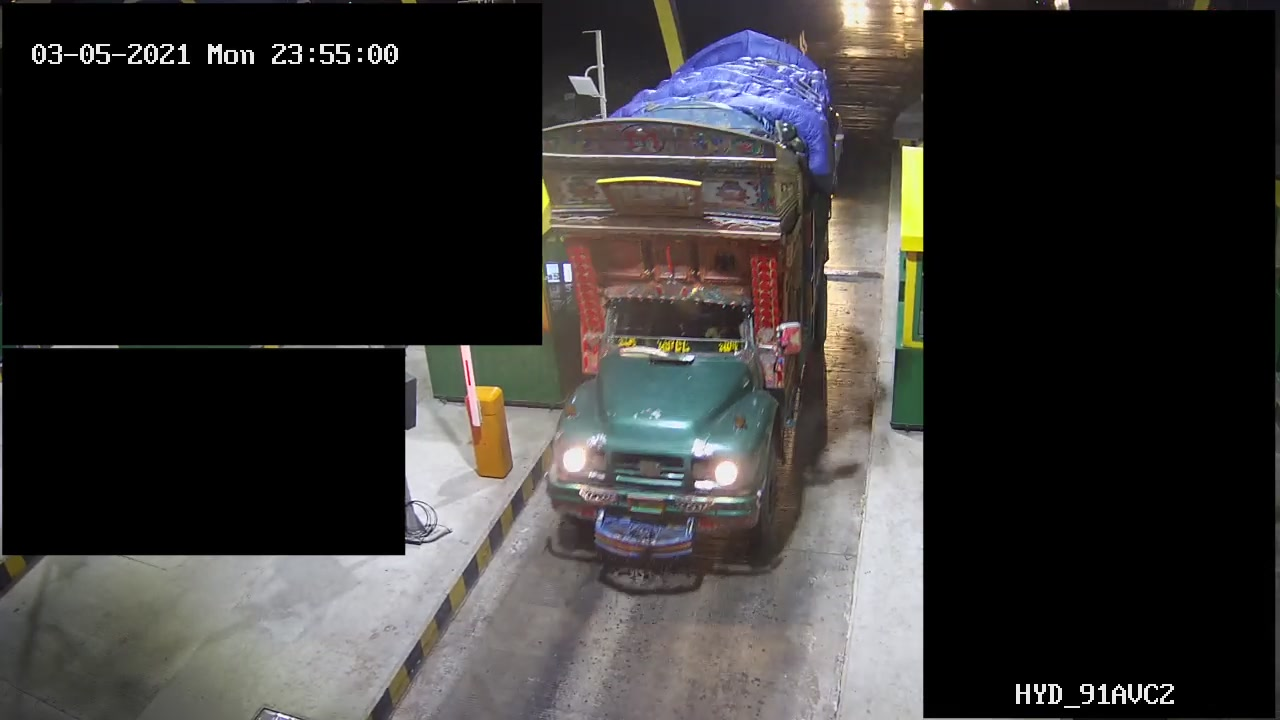F5: (534, 24, 838, 573)
